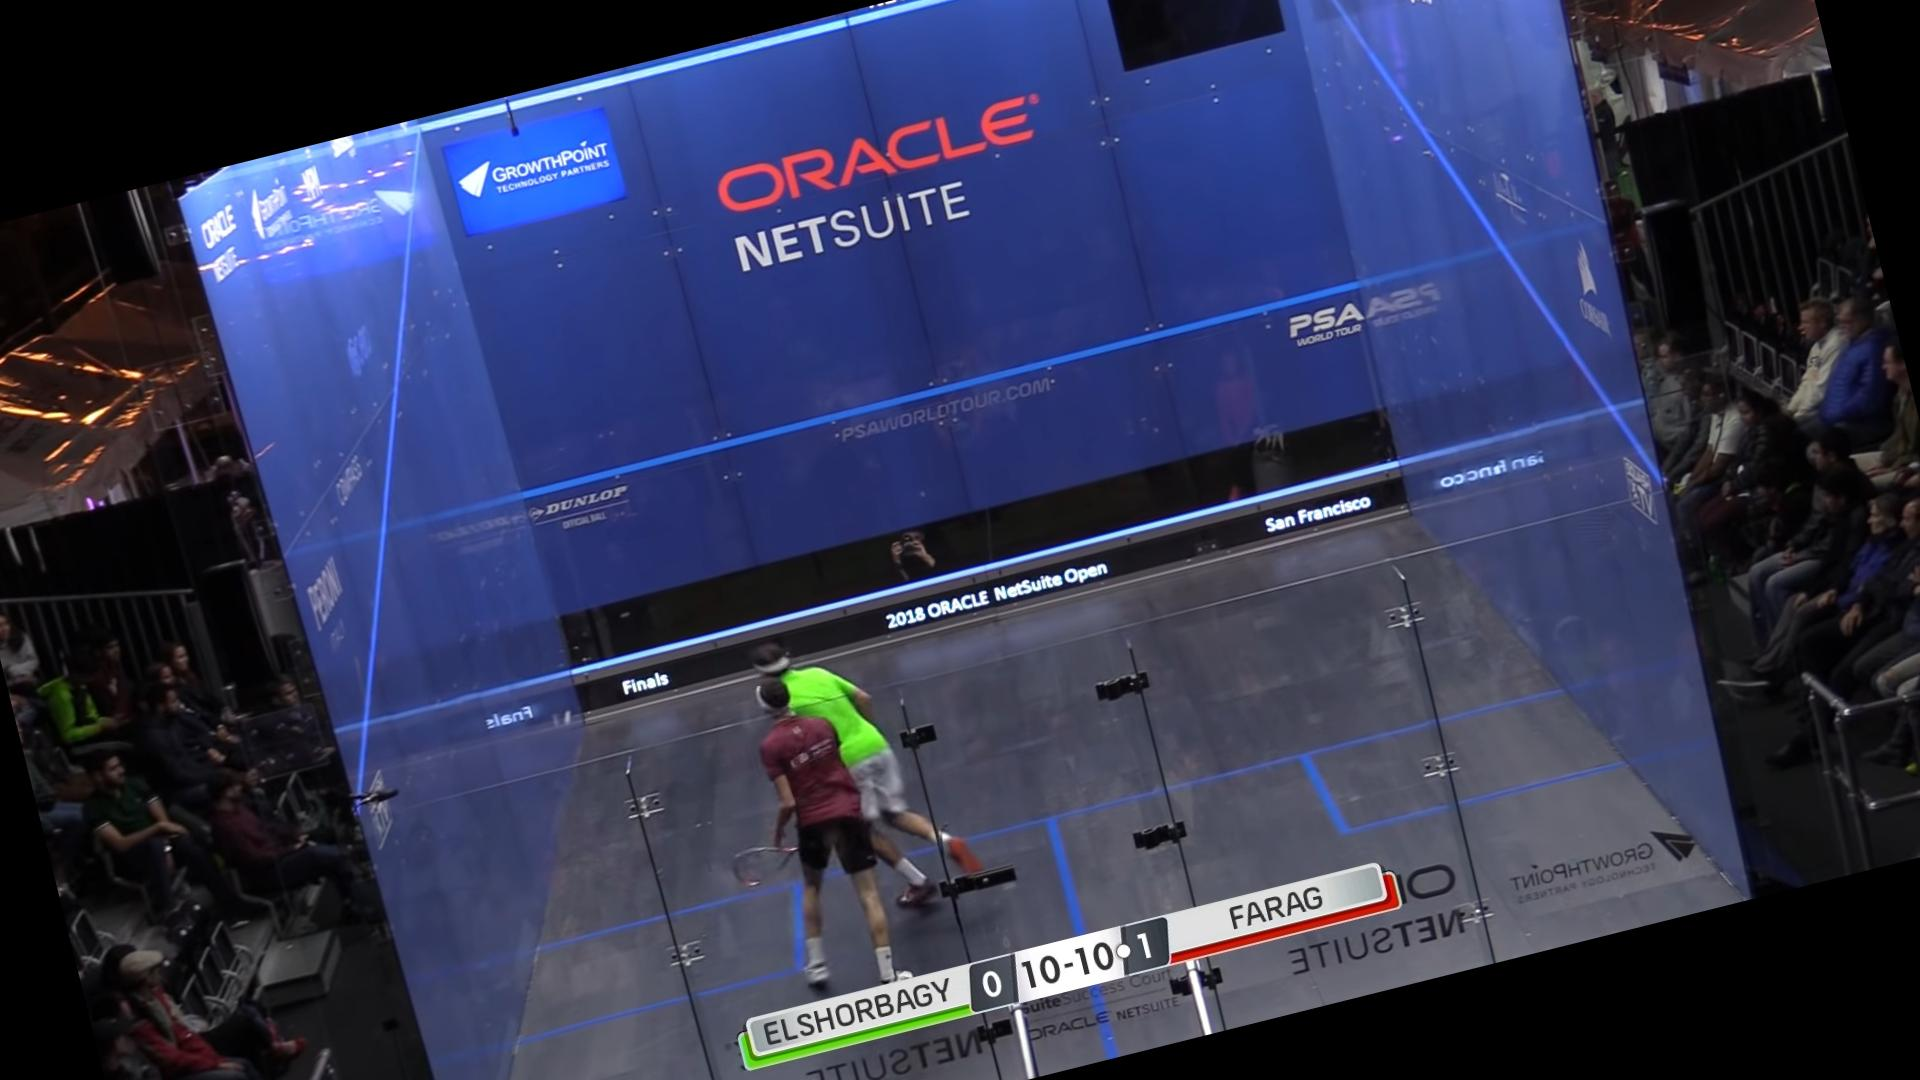Squash-Ball: (560, 711, 578, 733)
